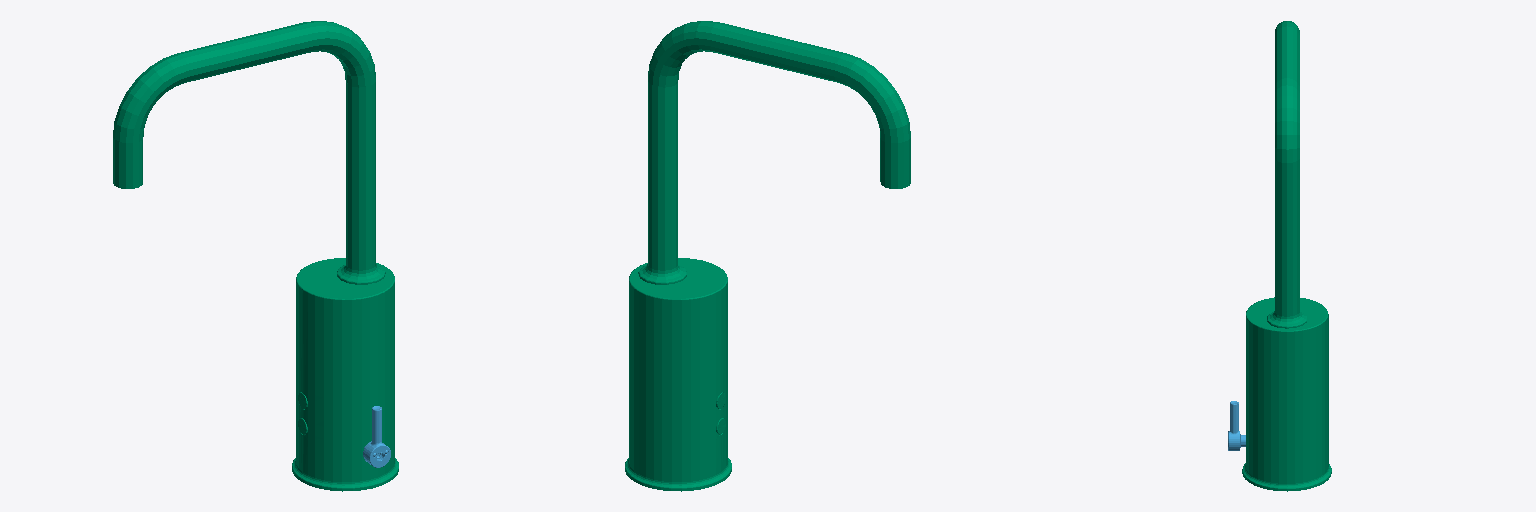
robot.urdf — partnet_38acce15053c16d3321831d2245cf06:
<?xml version="1.0" ?>
<robot name="partnet_38acce15053c16d3321831d2245cf06">
	<link name="base"/>
	<link name="link_0">
		<visual name="switch-5">
			<origin xyz="-0.19508300721645355 0.5753459995310186 0.10665673184167956"/>
			<geometry>
				<mesh filename="textured_objs/original-3.obj"/>
			</geometry>
		</visual>
		<collision>
			<origin xyz="-0.19508300721645355 0.5753459995310186 0.10665673184167956"/>
			<geometry>
				<mesh filename="textured_objs/original-3.obj"/>
			</geometry>
		</collision>
	</link>
	<joint name="joint_0" type="revolute">
		<origin xyz="0.19508300721645355 -0.5753459995310186 -0.10665673184167956"/>
		<axis xyz="1 0 0"/>
		<child link="link_0"/>
		<parent link="link_1"/>
		<limit lower="0.0" upper="1.5707963267948966"/>
	</joint>
	<link name="link_1">
		<visual name="tube-4">
			<origin xyz="0 0 0"/>
			<geometry>
				<mesh filename="textured_objs/original-1.obj"/>
			</geometry>
		</visual>
		<visual name="vertical_support-7">
			<origin xyz="0 0 0"/>
			<geometry>
				<mesh filename="textured_objs/original-2.obj"/>
			</geometry>
		</visual>
		<collision>
			<origin xyz="0 0 0"/>
			<geometry>
				<mesh filename="textured_objs/original-1.obj"/>
			</geometry>
		</collision>
		<collision>
			<origin xyz="0 0 0"/>
			<geometry>
				<mesh filename="textured_objs/original-2.obj"/>
			</geometry>
		</collision>
	</link>
	<joint name="joint_1" type="fixed">
		<origin rpy="1.570796326794897 0 -1.570796326794897" xyz="0 0 0"/>
		<child link="link_1"/>
		<parent link="base"/>
	</joint>
</robot>

--- Facts derived from the render (not from the file) ---
3 views of the same robot in one strip: view 1: azimuth 30°, elevation 25°; view 2: azimuth 150°, elevation 25°; view 3: azimuth 270°, elevation 25° (orthographic).
Model partnet_38acce15053c16d3321831d2245cf06 with 3 links and 2 joints (1 revolute, 1 fixed), rooted at base, posed all joints at 0.
Links seen in each view (by area): view 1: link_1, link_0; view 2: link_1; view 3: link_1, link_0.
Link boxes in pixels (box(x1,y1,x2,y2)): link_1: box(113, 21, 398, 491); link_0: box(363, 406, 390, 467); link_1: box(625, 21, 910, 491); link_1: box(1242, 21, 1331, 491); link_0: box(1228, 401, 1245, 450).
Size in the robot's own frame: 0.9899 by 0.385 by 1.55 metres.
3 mesh visuals loaded from 3 distinct referenced files (3 OBJ).
